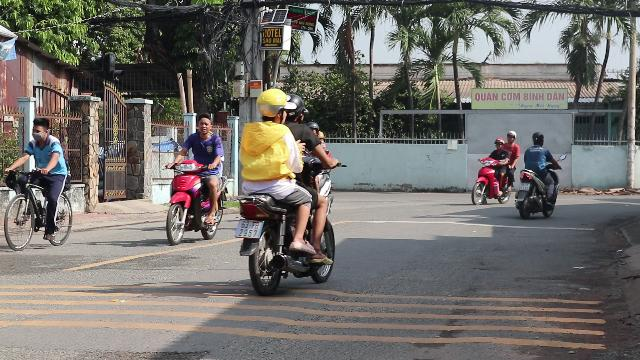helmet: (255, 88, 289, 122), (282, 93, 306, 123)
motorcyclist: (230, 86, 342, 294), (162, 114, 226, 244)
nohelmet: (234, 219, 264, 238), (194, 115, 212, 135)
